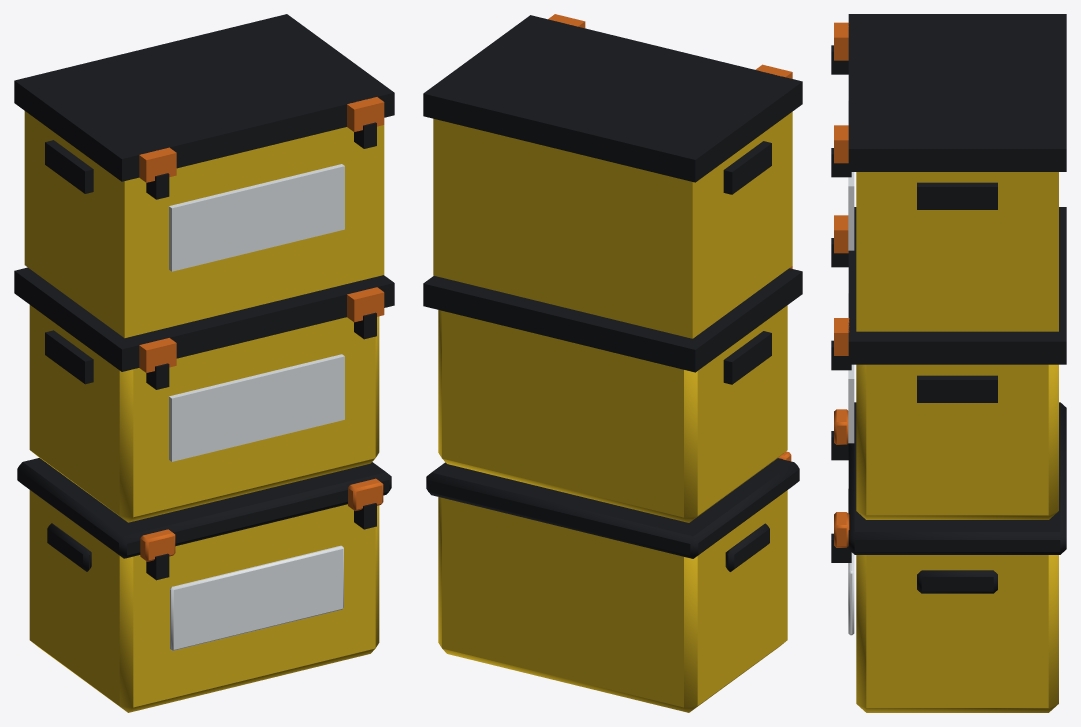
Rendered from crate_tote_stack_yellow.glb.
3 views of the same model, side by side, from view 1: azimuth 30°, elevation 25°; view 2: azimuth 150°, elevation 25°; view 3: azimuth 270°, elevation 25° (orthographic).
Parts seen in each view (by area): view 1: crate_tote_stack_yellow; view 2: crate_tote_stack_yellow; view 3: crate_tote_stack_yellow.
Part boxes in pixels (x1,y1,x2,y2): crate_tote_stack_yellow: (14,14,394,712); crate_tote_stack_yellow: (423,14,802,712); crate_tote_stack_yellow: (831,14,1066,712).
Size of the model in its own units: 0.644 by 1.25 by 0.464.
